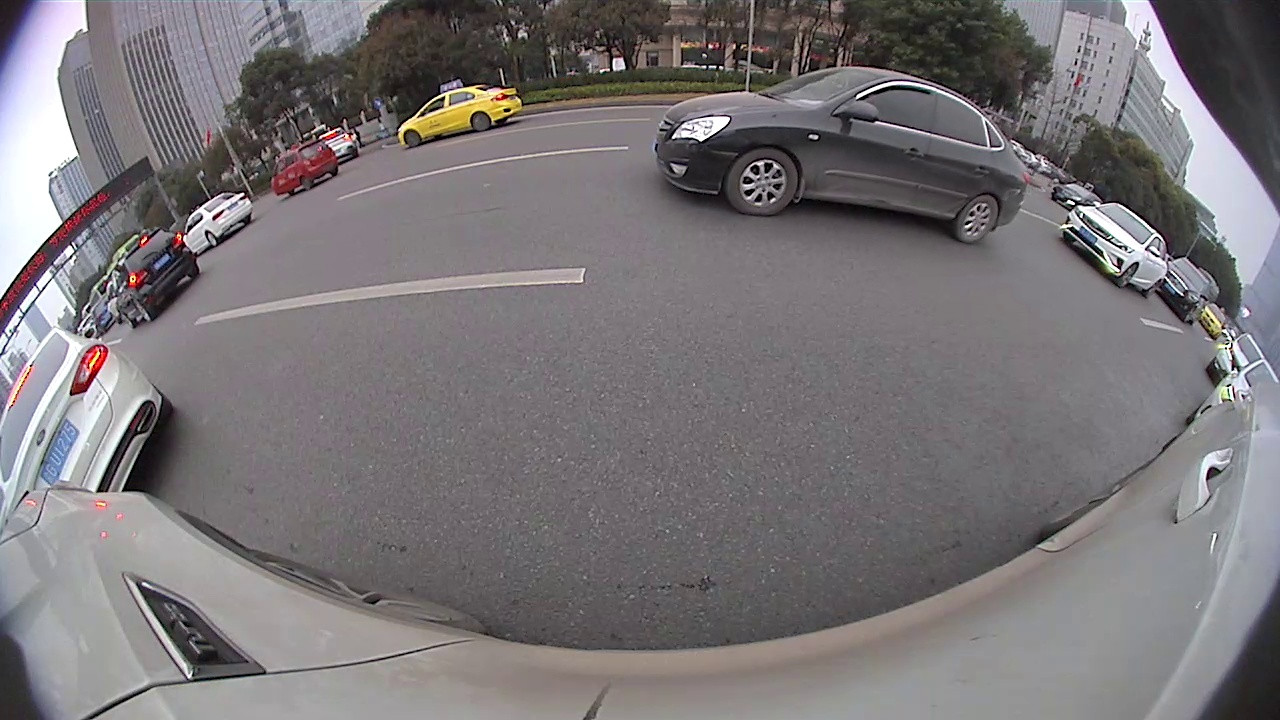car: (656, 63, 1032, 247), (2, 324, 179, 519), (1062, 197, 1171, 301), (396, 81, 525, 154), (116, 222, 202, 330), (267, 138, 340, 201), (188, 188, 256, 249), (1159, 256, 1211, 326)
front: (723, 149, 799, 214), (1118, 262, 1140, 288), (405, 132, 422, 148)
rear: (953, 193, 999, 244), (131, 296, 154, 323), (471, 113, 491, 132), (207, 232, 221, 248), (302, 177, 312, 191)
